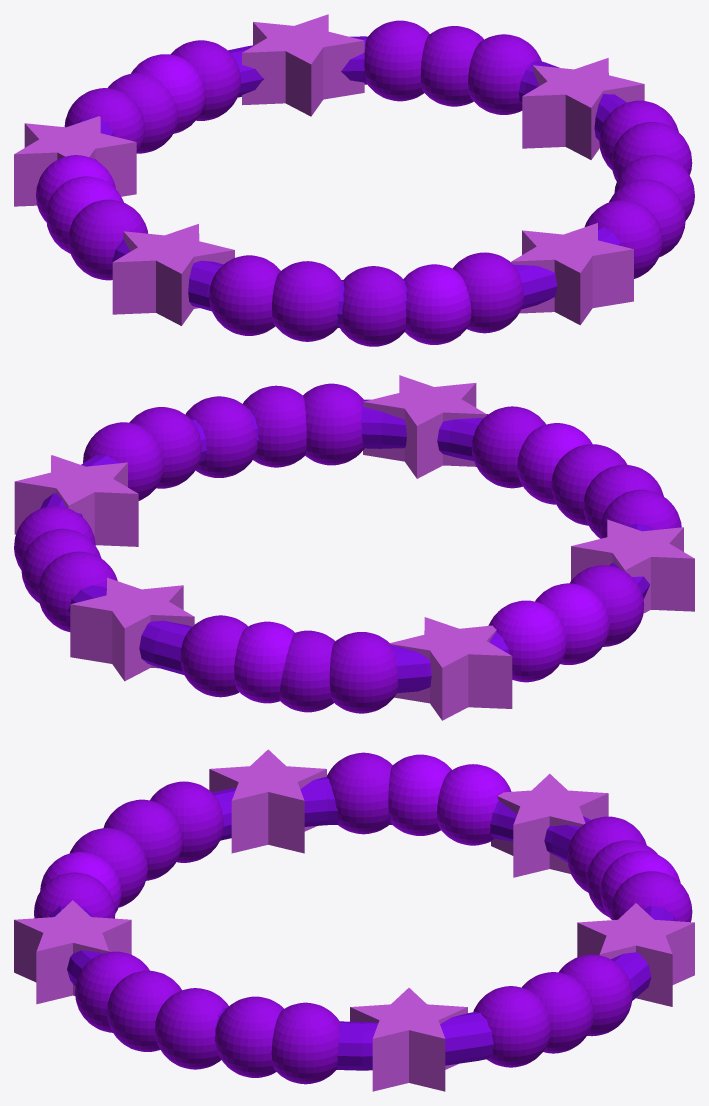
File: SpeakNow.fbx
3 views of the same model, one above another, from view 1: azimuth 30°, elevation 25°; view 2: azimuth 150°, elevation 25°; view 3: azimuth 270°, elevation 25° (orthographic).
Visible parts, largest first — view 1: Torus.019; view 2: Torus.019; view 3: Torus.019.
Boxes of the visible parts, left/top/right/bottom form: Torus.019: left=14, top=14, right=694, bottom=346; Torus.019: left=14, top=375, right=694, bottom=720; Torus.019: left=14, top=749, right=694, bottom=1091.
Size of the model in its own units: 234 by 31.57 by 234.
